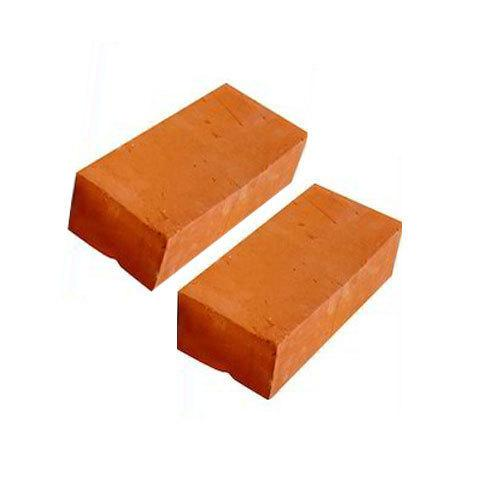Bricks: (67, 85, 308, 291), (177, 184, 403, 400)
